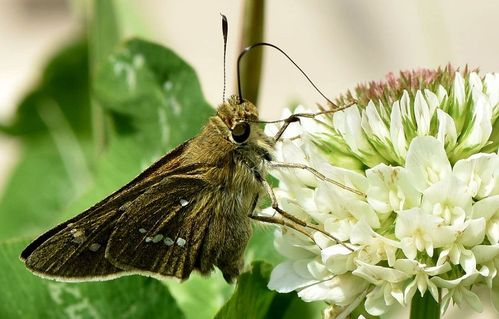Hesperiidae: (19, 14, 347, 287)
